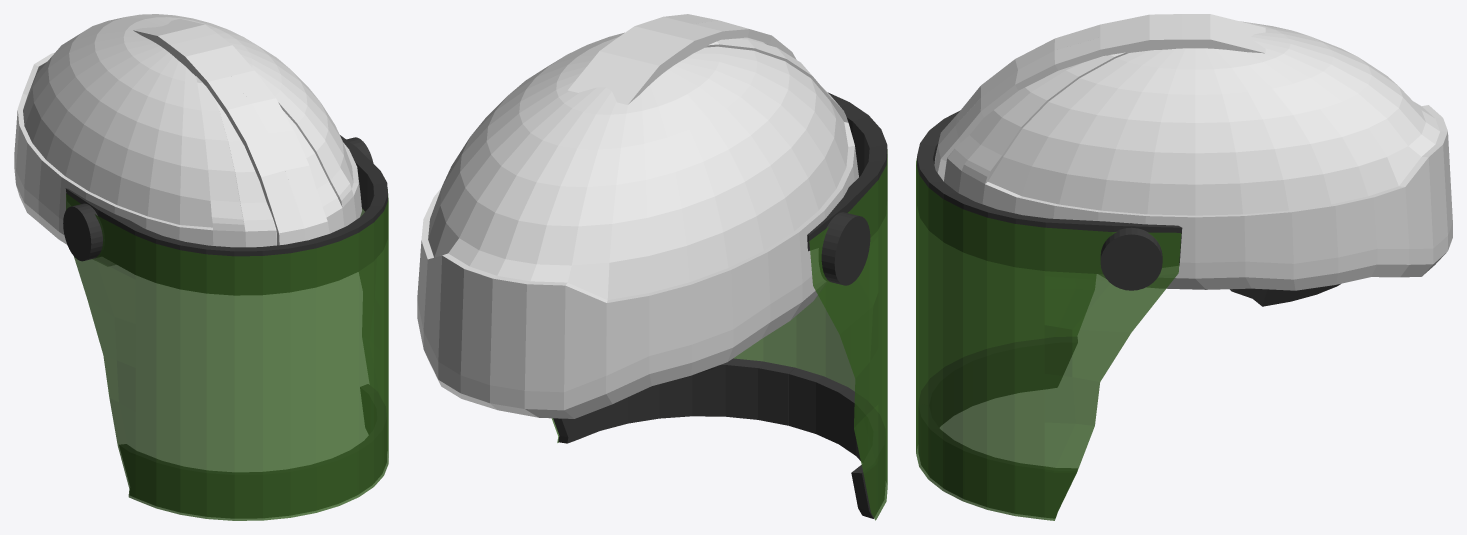
File: arc-safety-helmet.fbx
3 views of the same model, side by side, from view 1: azimuth 30°, elevation 25°; view 2: azimuth 150°, elevation 25°; view 3: azimuth 270°, elevation 25° (orthographic). The views are drawn at different scales.
Visible parts, largest first — view 1: Circle, Sphere, Circle.001, Circle.002; view 2: Sphere, Circle, Circle.002, Circle.001; view 3: Sphere, Circle, Circle.001, Circle.002, Sphere.001.
Part boxes in pixels (left/top/right/bottom): Circle: left=66, top=189, right=388, bottom=520; Sphere: left=14, top=14, right=361, bottom=266; Circle.001: left=63, top=135, right=387, bottom=294; Circle.002: left=119, top=384, right=386, bottom=517; Sphere: left=417, top=14, right=858, bottom=418; Circle: left=551, top=149, right=887, bottom=520; Circle.002: left=553, top=358, right=884, bottom=518; Circle.001: left=807, top=92, right=887, bottom=285; Sphere: left=934, top=14, right=1452, bottom=290; Circle: left=916, top=158, right=1181, bottom=520; Circle.001: left=917, top=110, right=1182, bottom=290; Circle.002: left=919, top=337, right=1077, bottom=517; Sphere.001: left=1230, top=284, right=1340, bottom=306.
Bounding box in the file's own units: 226 × 294 × 336.
